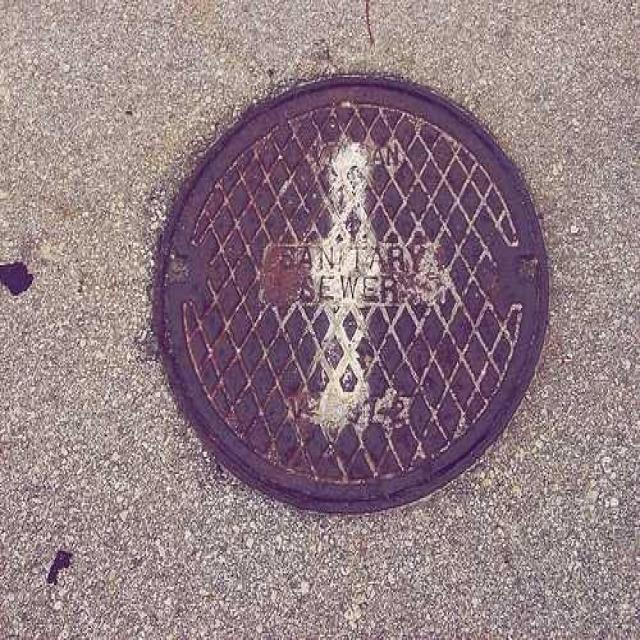manhole: (154, 77, 549, 511)
